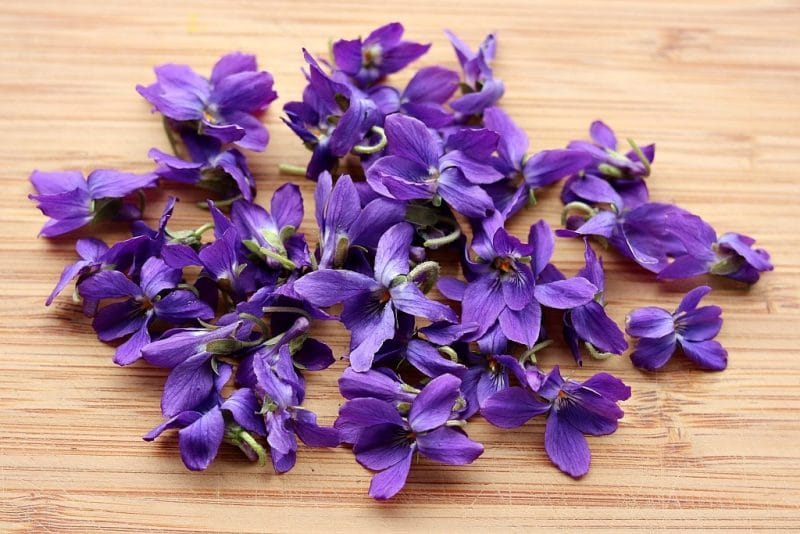violet: (70, 39, 766, 490)
